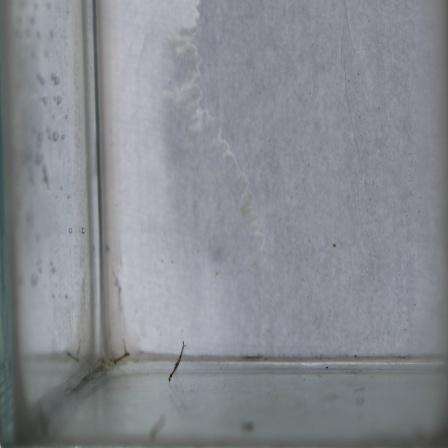Jentik-Nyamuk: (163, 337, 192, 384), (108, 346, 135, 368)
